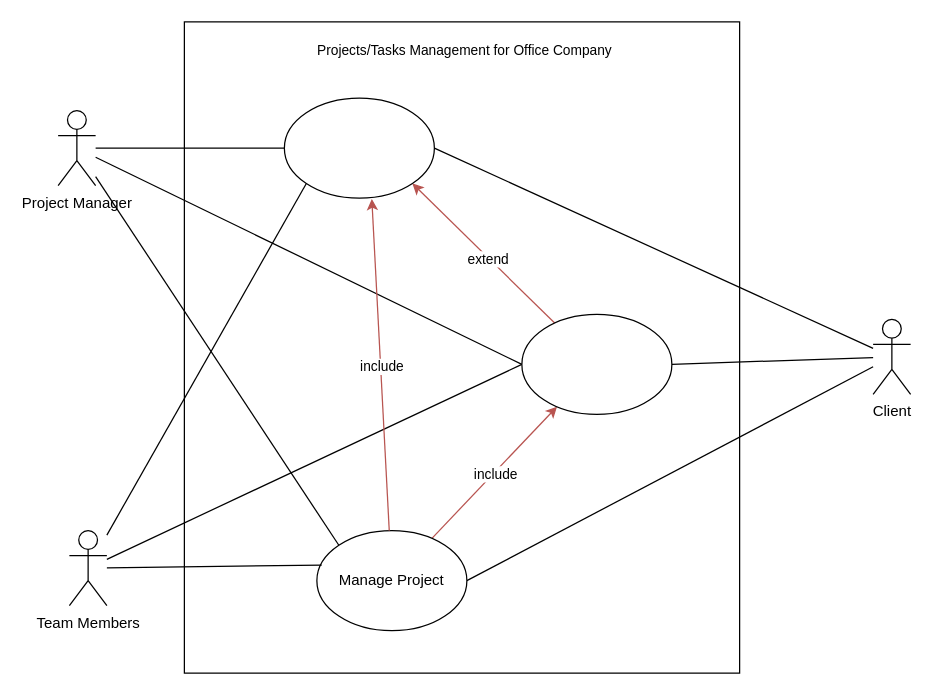
This 933x695 diagram has some shape labels left out. Each missing label, with the centre of its shape:
Manage Calendar: pixel 596 363
Manage Task: pixel 358 147
